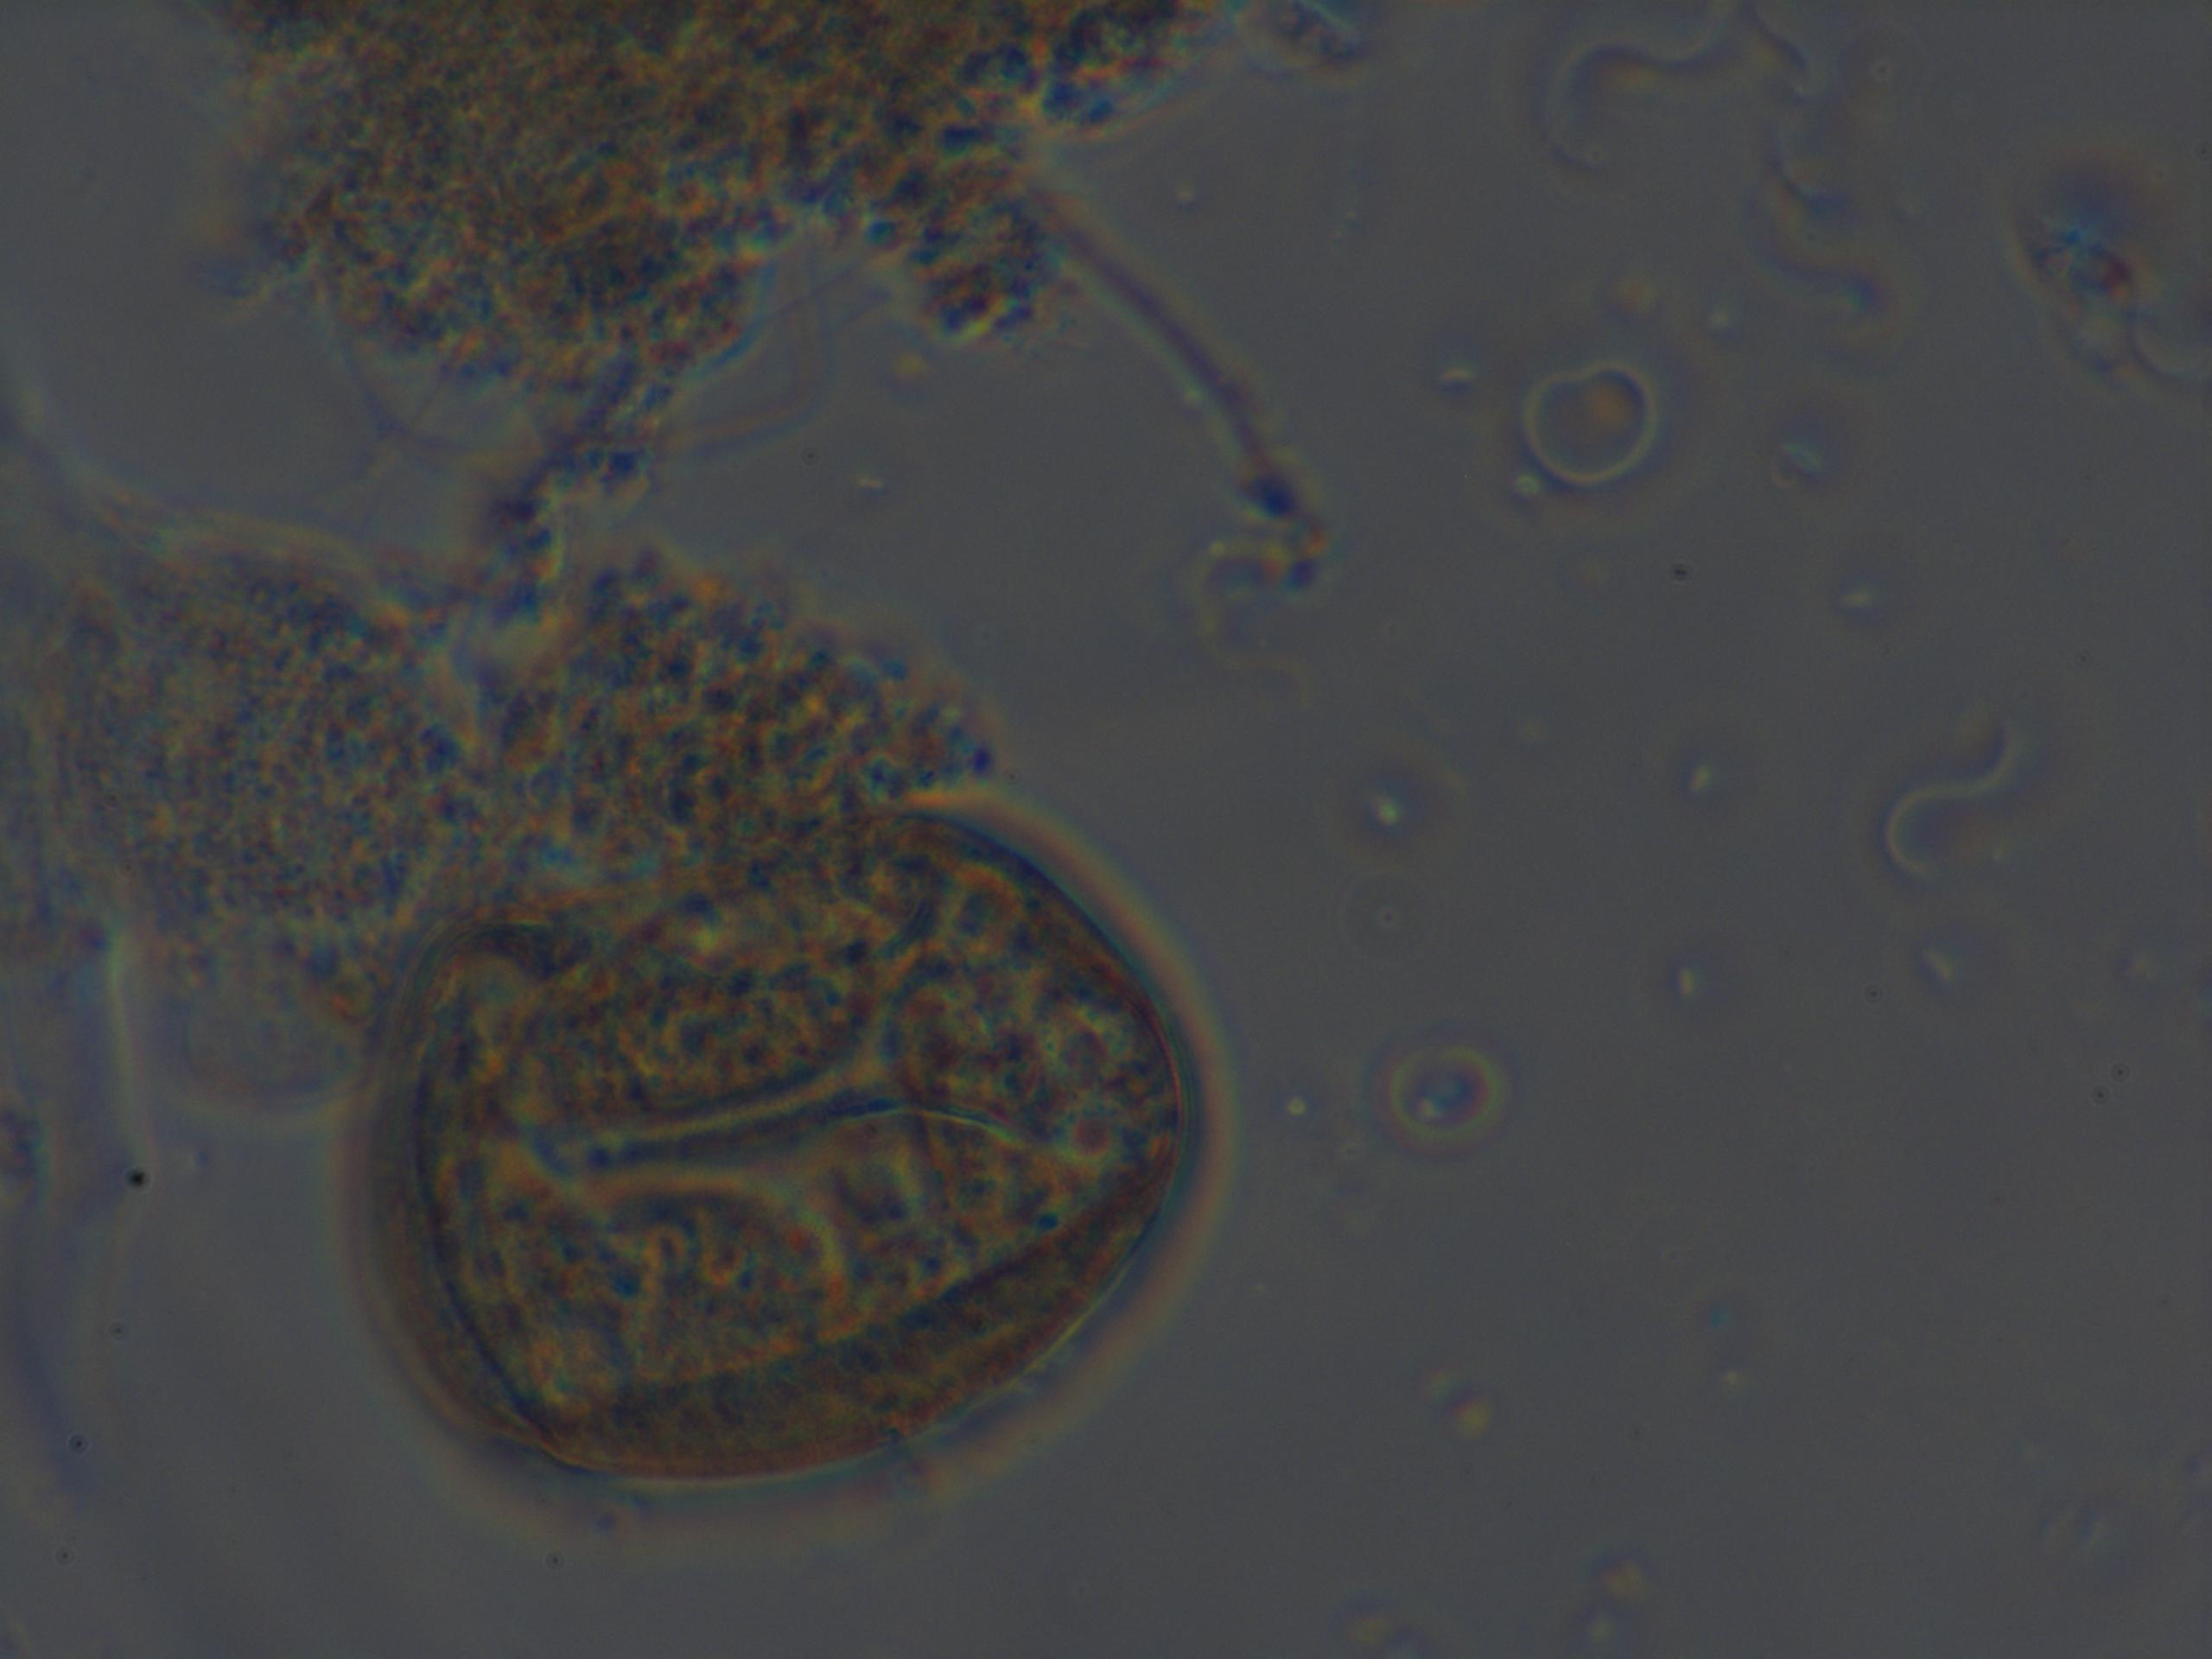filament: (1045, 193, 1332, 565), (369, 382, 681, 629)
